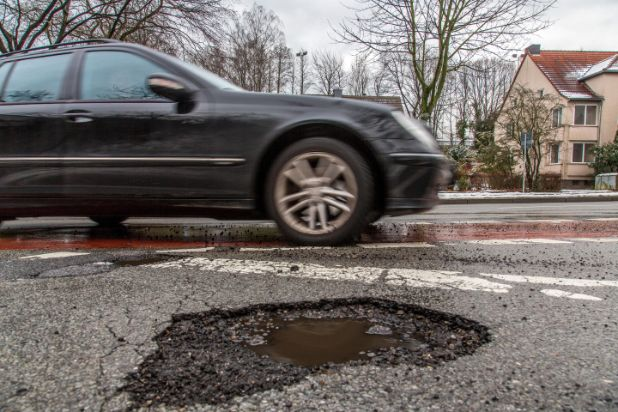pothole: (118, 293, 495, 412)
